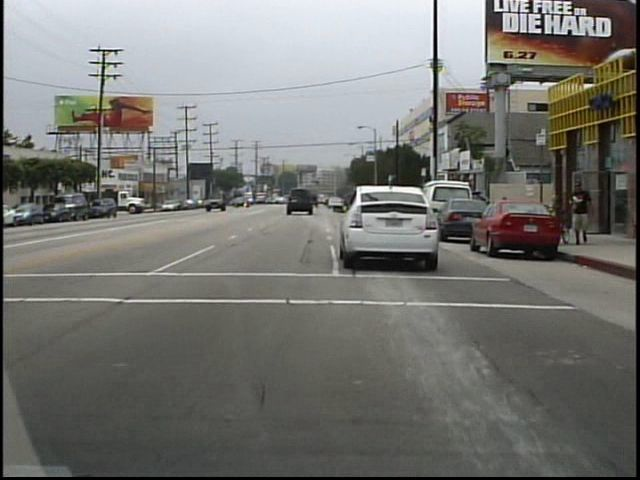person: (570, 174, 597, 249)
